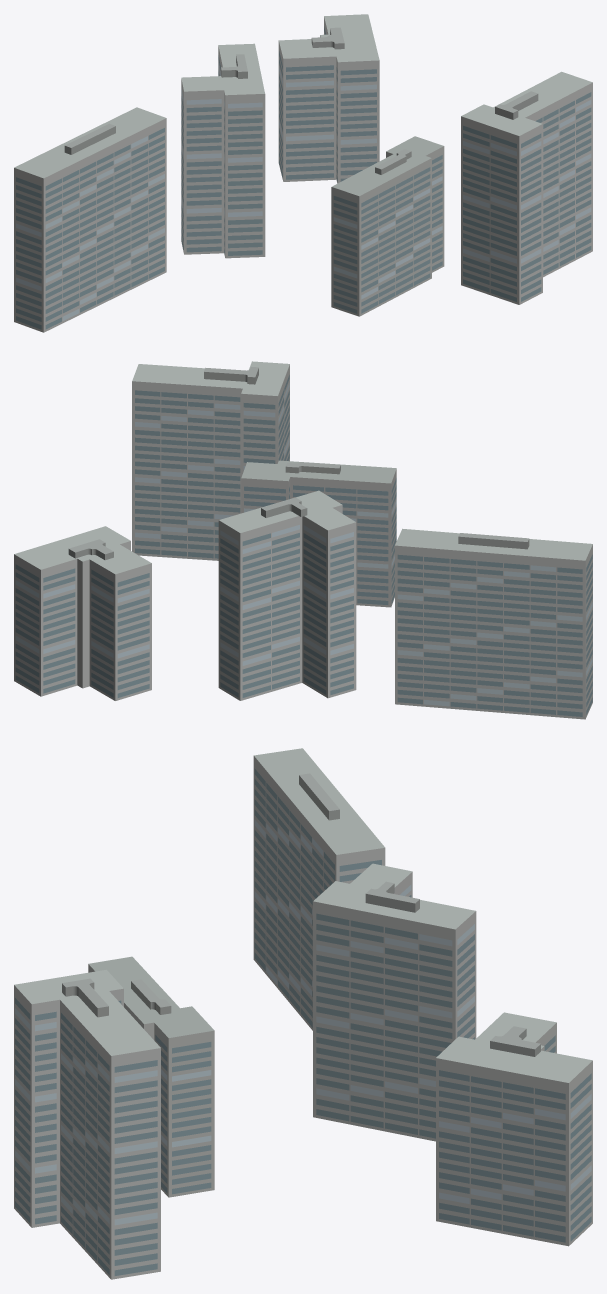
Rendered from apt-a13508009.glb.
3 views of the same model, one above another, from view 1: azimuth 30°, elevation 25°; view 2: azimuth 150°, elevation 25°; view 3: azimuth 270°, elevation 25° (orthographic). The views are drawn at different scales.
Visible parts, largest first — view 1: apt-a13508009; view 2: apt-a13508009; view 3: apt-a13508009.
Part boxes in pixels (x1,y1,x2,y2): apt-a13508009: (14,14,592,332); apt-a13508009: (14,361,592,719); apt-a13508009: (14,748,592,1279).
Bounding box in the file's own units: 181 × 60 × 135.
